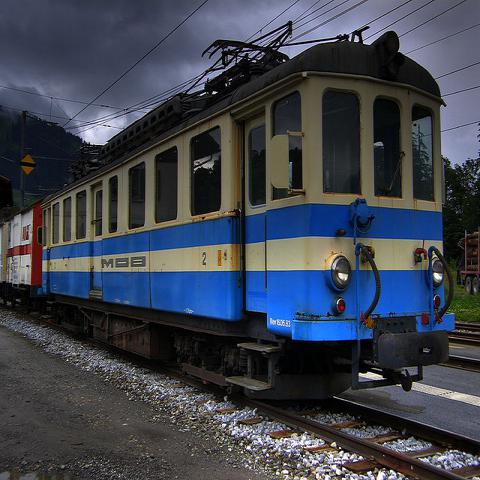truck: (460, 226, 479, 297), (467, 231, 477, 271)
